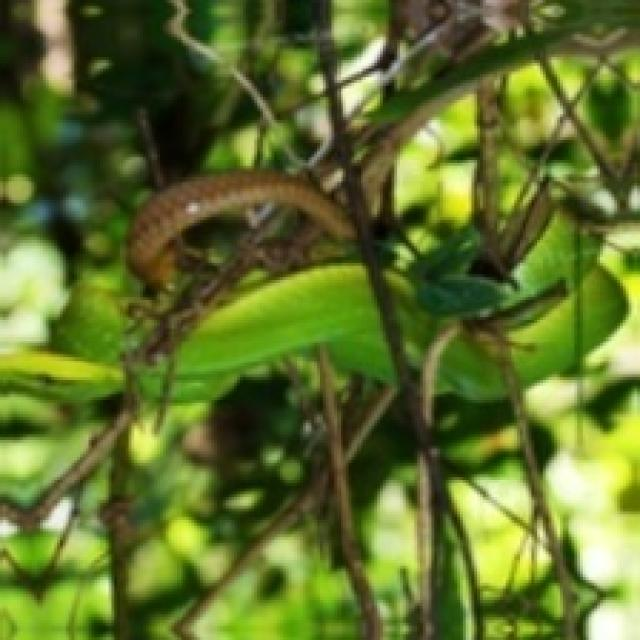red-tailed green ratsnake: (171, 264, 390, 401), (129, 171, 351, 286), (494, 216, 575, 386), (0, 351, 122, 402), (582, 236, 628, 351), (436, 331, 506, 402), (400, 296, 460, 365), (141, 366, 164, 398)
